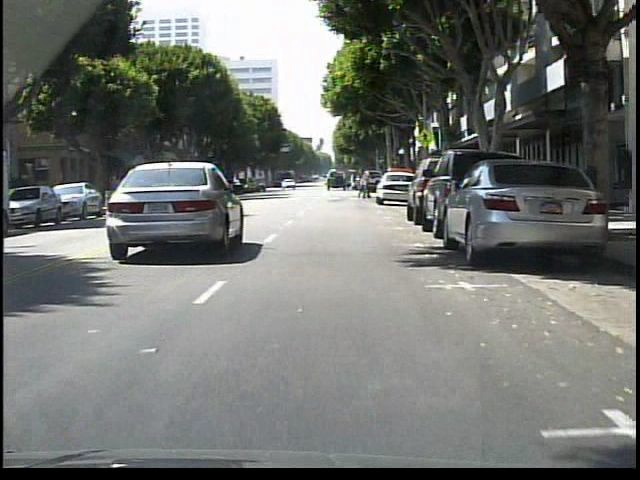person: (357, 170, 371, 199), (353, 170, 354, 190)
